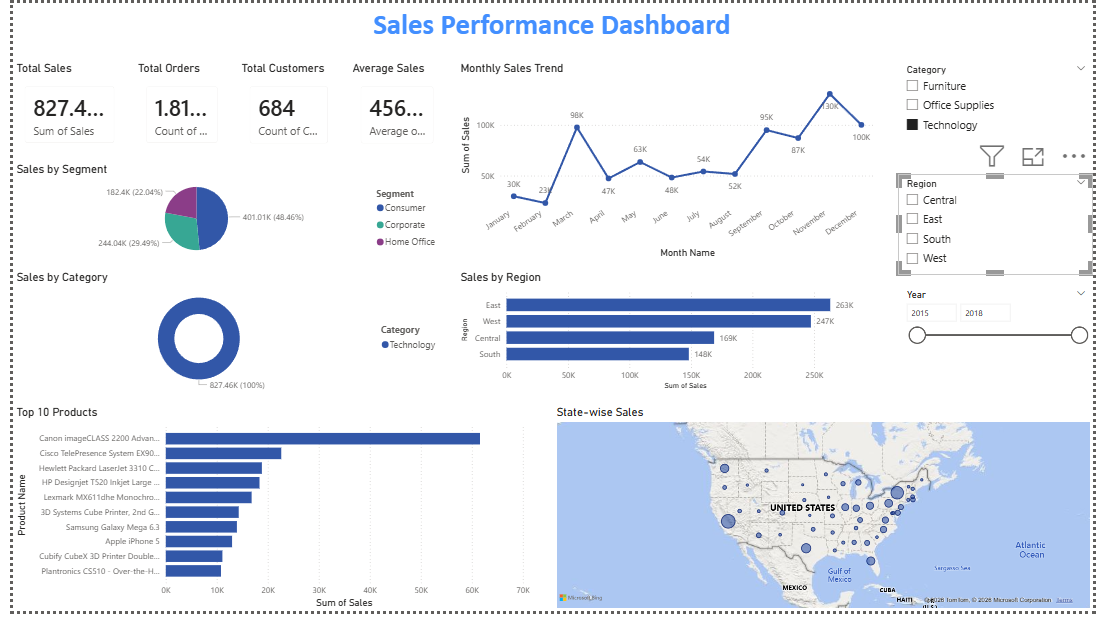

The dashboard page shown, as its layout file describes it:
{"tool":"powerbi","page":{"name":"Page 1","canvas":[1600,900],"ordinal":0},"visuals":[{"type":"cardVisual","title":"Total Sales","fields":{"Data":["Sum(train.Sales)"]},"box":[0,87.5,167.5,137.5],"z":0},{"type":"cardVisual","title":"Total Orders","fields":{"Data":["CountNonNull(train.Sales)"]},"box":[179.3,87.3,140.7,138],"z":1000},{"type":"cardVisual","title":"Total Customers","fields":{"Data":["Count(train.Customer ID)"]},"box":[334.3,87.1,150,138.6],"z":2000},{"type":"cardVisual","title":"Average Sales","fields":{"Data":["Avg(train.Sales)"]},"box":[497.1,85.7,142.9,138.6],"z":3000},{"type":"lineChart","title":"Monthly Sales Trend","fields":{"Category":["train.Month Name"],"Y":["Sum(train.Sales)"]},"box":[657.5,87.5,622.5,295],"z":4000},{"type":"clusteredBarChart","title":"Sales by Region","fields":{"Category":["train.Region"],"Y":["Sum(train.Sales)"]},"box":[657,396,623,182],"z":5000},{"type":"donutChart","title":"Sales by Category","fields":{"Category":["train.Category"],"Y":["Sum(train.Sales)"]},"box":[0,395,640,183],"z":6000},{"type":"pieChart","title":"Sales by Segment","fields":{"Category":["train.Segment"],"Y":["Sum(train.Sales)"]},"box":[0,235,640,147.5],"z":7000},{"type":"clusteredBarChart","title":"Top 10 Products","fields":{"Category":["train.Product Name"],"Y":["Sum(train.Sales)"]},"box":[0,595,770,305],"z":8000},{"type":"map","title":"State-wise Sales","fields":{"Category":["train.State"],"Size":["Sum(train.Sales)"]},"box":[800,595,800,305],"z":9000},{"type":"slicer","fields":{"Values":["train.Year"]},"box":[1310,417.3,290,160.9],"z":10000},{"type":"slicer","fields":{"Values":["train.Region"]},"box":[1310,252.5,290,150],"z":11000},{"type":"slicer","fields":{"Values":["train.Category"]},"box":[1310,85,290,150],"z":12000},{"type":"textbox","box":[52.5,0,1490,62.5],"z":13000}]}

Visuals, with their boxes in screenshot pixels (x1, y1, x2, y2), scaled from the page's 1600x900 canvas onto the 1099x621 screenshot:
"Total Sales" cardVisual: rect(0, 60, 115, 155)
"Total Orders" cardVisual: rect(123, 60, 220, 155)
"Total Customers" cardVisual: rect(230, 60, 333, 156)
"Average Sales" cardVisual: rect(341, 59, 440, 155)
"Monthly Sales Trend" lineChart: rect(452, 60, 879, 264)
"Sales by Region" clusteredBarChart: rect(451, 273, 879, 399)
"Sales by Category" donutChart: rect(0, 273, 440, 399)
"Sales by Segment" pieChart: rect(0, 162, 440, 264)
"Top 10 Products" clusteredBarChart: rect(0, 411, 529, 620)
"State-wise Sales" map: rect(550, 411, 1098, 620)
slicer - train.Year: rect(900, 288, 1098, 399)
slicer - train.Region: rect(900, 174, 1098, 278)
slicer - train.Category: rect(900, 59, 1098, 162)
textbox: rect(36, 0, 1060, 43)
